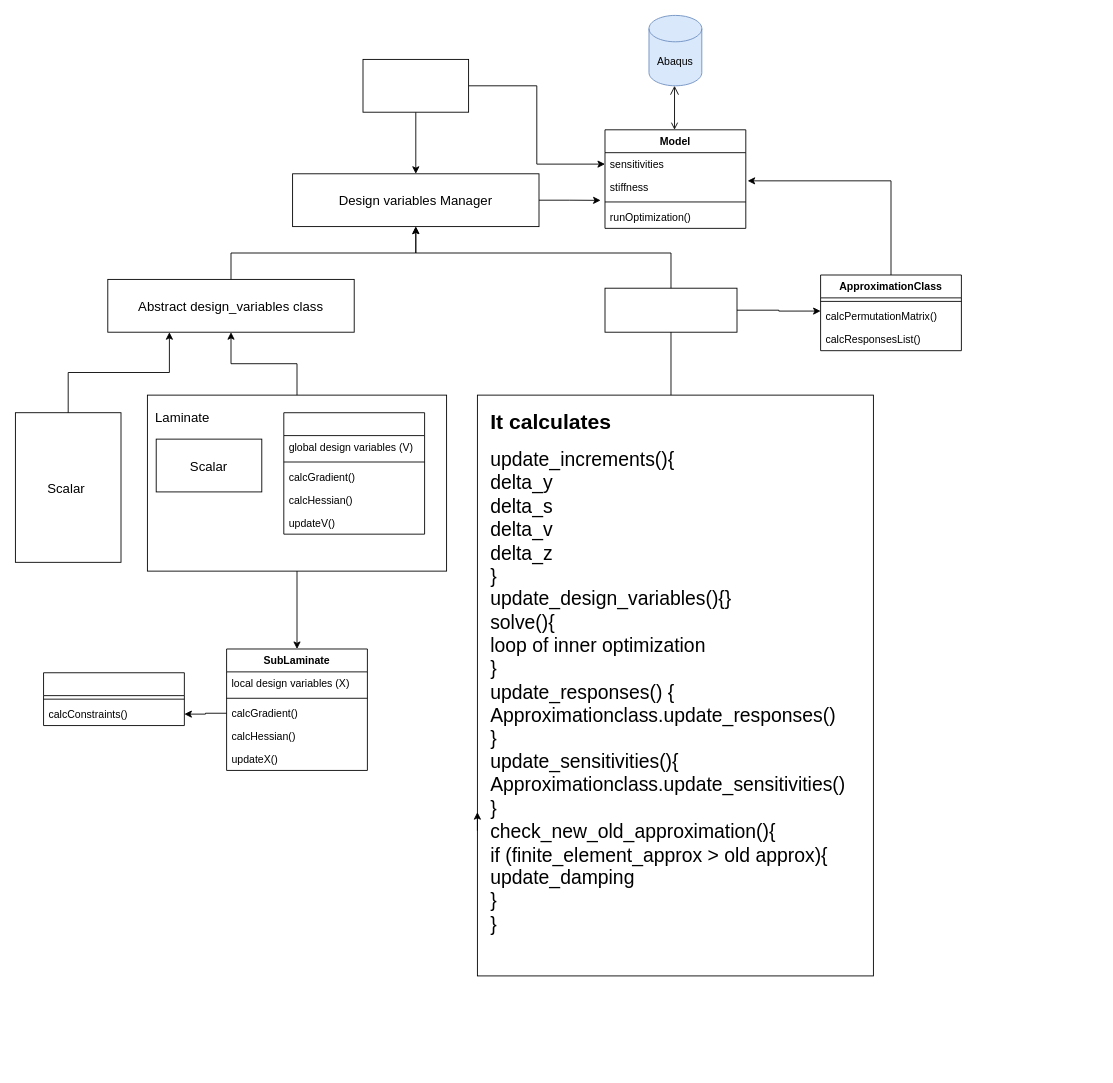
Some shapes in this 1113 by 1083 pixel diagram are drawn without their labels. Here are the shapes that lost their labels. From the top down, the box of each, then its label:
(362, 59, 469, 112): section_class
(604, 287, 737, 332): Global Optimizer
(283, 412, 425, 534): LamPar
(43, 672, 184, 726): Miki_Cone_Constraints
